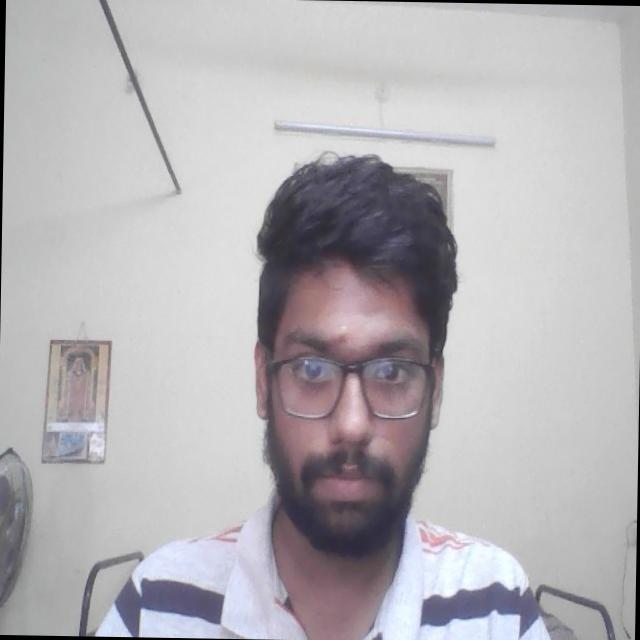Focused: (262, 292, 431, 516)
